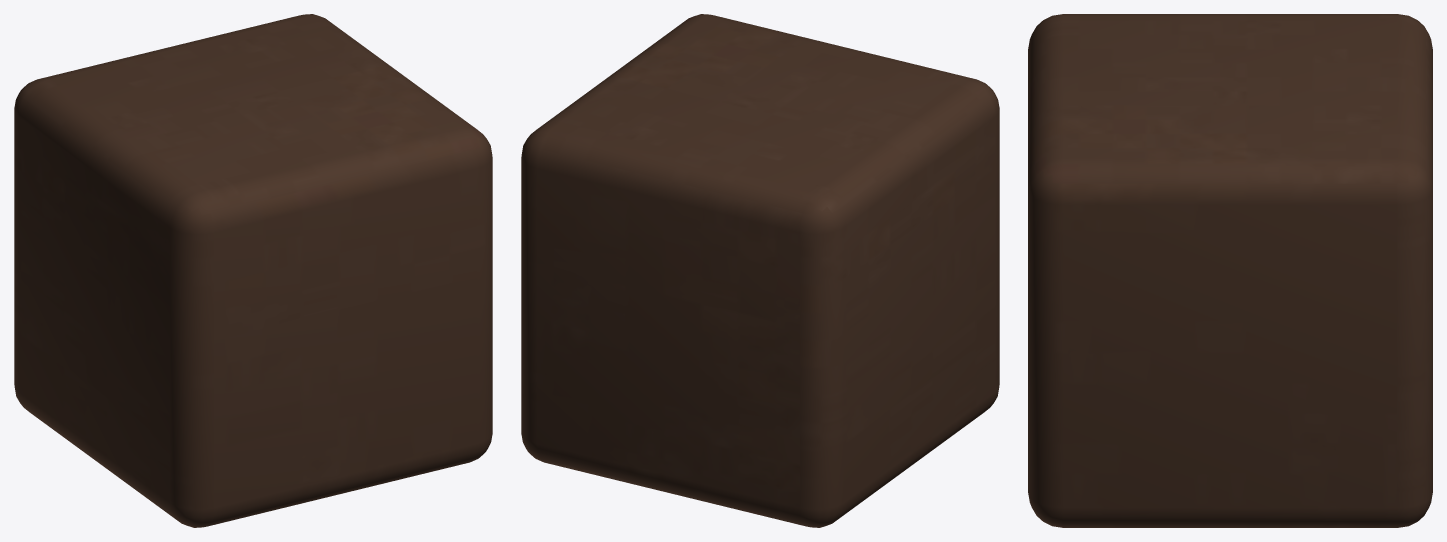
File: Obstacle.fbx
The picture shows the model from 3 angles, left to right: view 1: azimuth 30°, elevation 25°; view 2: azimuth 150°, elevation 25°; view 3: azimuth 270°, elevation 25°; orthographic projection. The views are drawn at different scales.
Visible parts, largest first — view 1: Cube; view 2: Cube; view 3: Cube.
Boxes of the visible parts, x1,y1,x2,y2 form: Cube: [14, 14, 492, 527]; Cube: [521, 14, 999, 527]; Cube: [1028, 14, 1432, 527].
Bounding box in the file's own units: 100 × 100 × 100.
